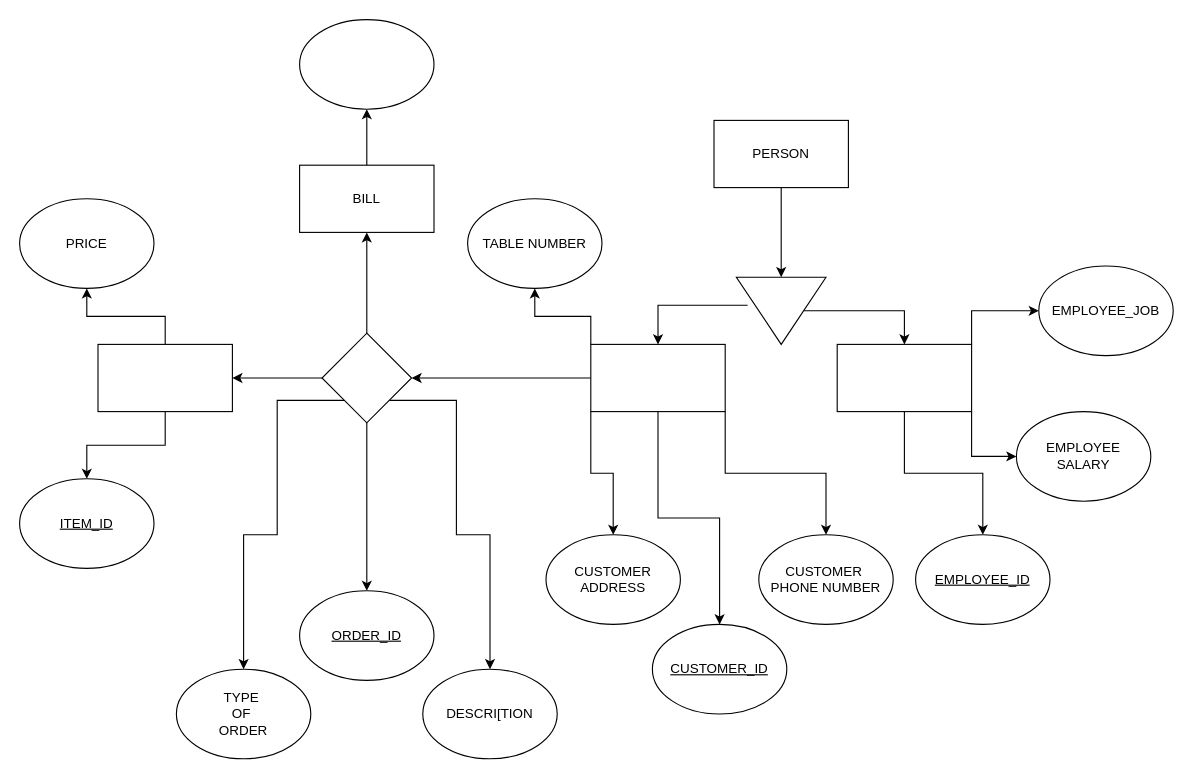
This 1193x778 diagram has some shape labels left out. The shapes that lost their labels are listed below. From the top down, each one's box as (x1, y1, x2, y2) in pixels, then its label:
(298, 18, 434, 109): BILL_NO.
(735, 276, 826, 344): ISA
(97, 343, 232, 412): MENU_ITEM
(321, 332, 412, 423): ORDERS
(590, 343, 725, 412): CUSTOMER
(836, 343, 972, 412): EMPLOYEE
